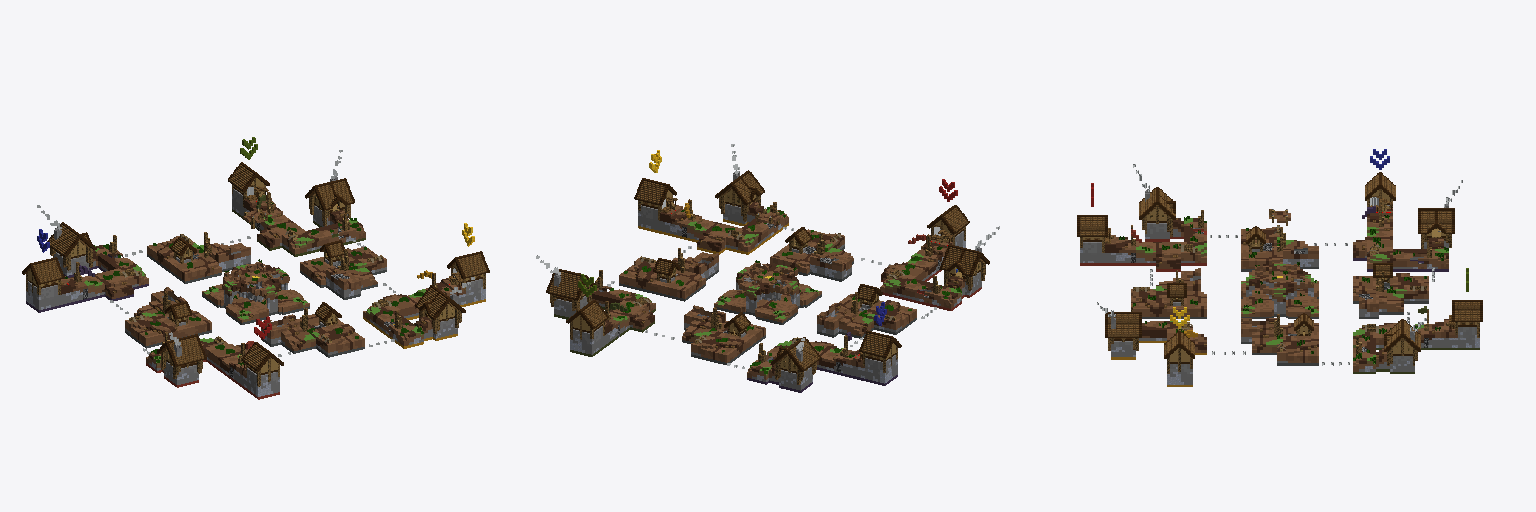
The picture shows the model from 3 angles: view 1: azimuth 30°, elevation 25°; view 2: azimuth 150°, elevation 25°; view 3: azimuth 270°, elevation 25°; orthographic projection.
Size of the model in its own units: 144 by 36.5 by 144.
44 materials, 15 textured.